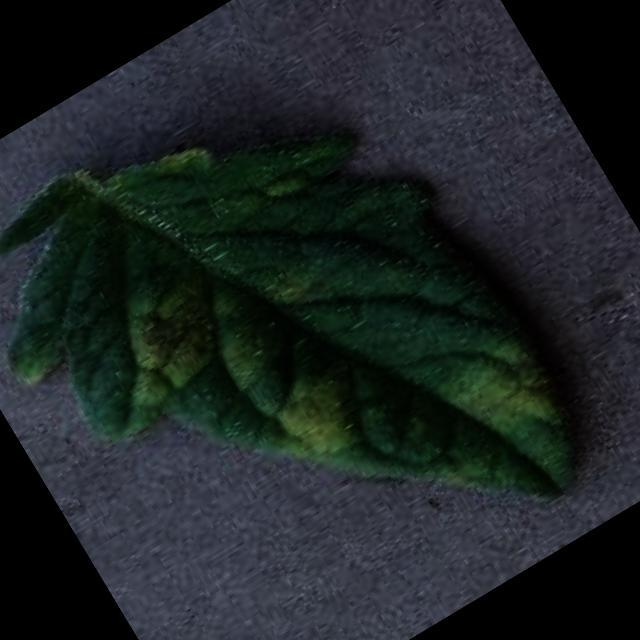Tomato mold leaf: (0, 14, 608, 640)
